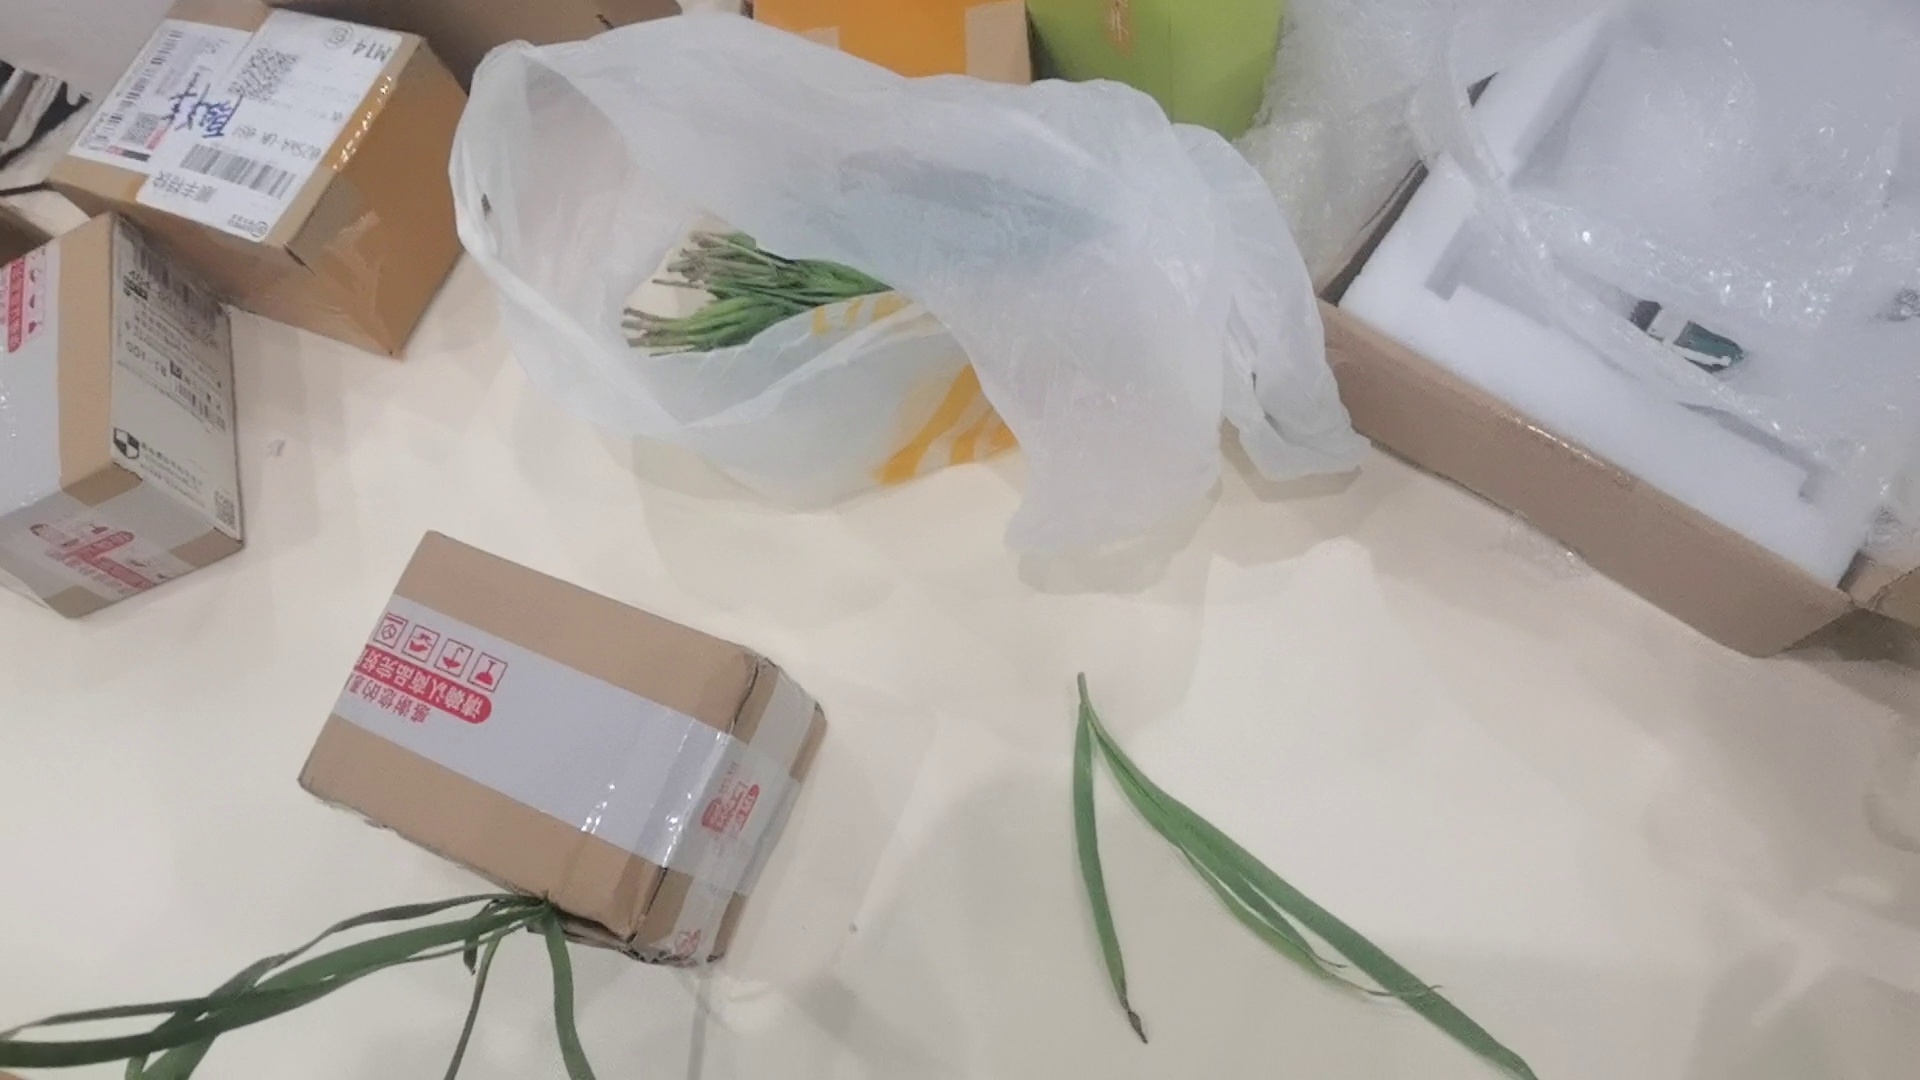chives: (1058, 674, 1551, 1080), (5, 862, 622, 1080)
